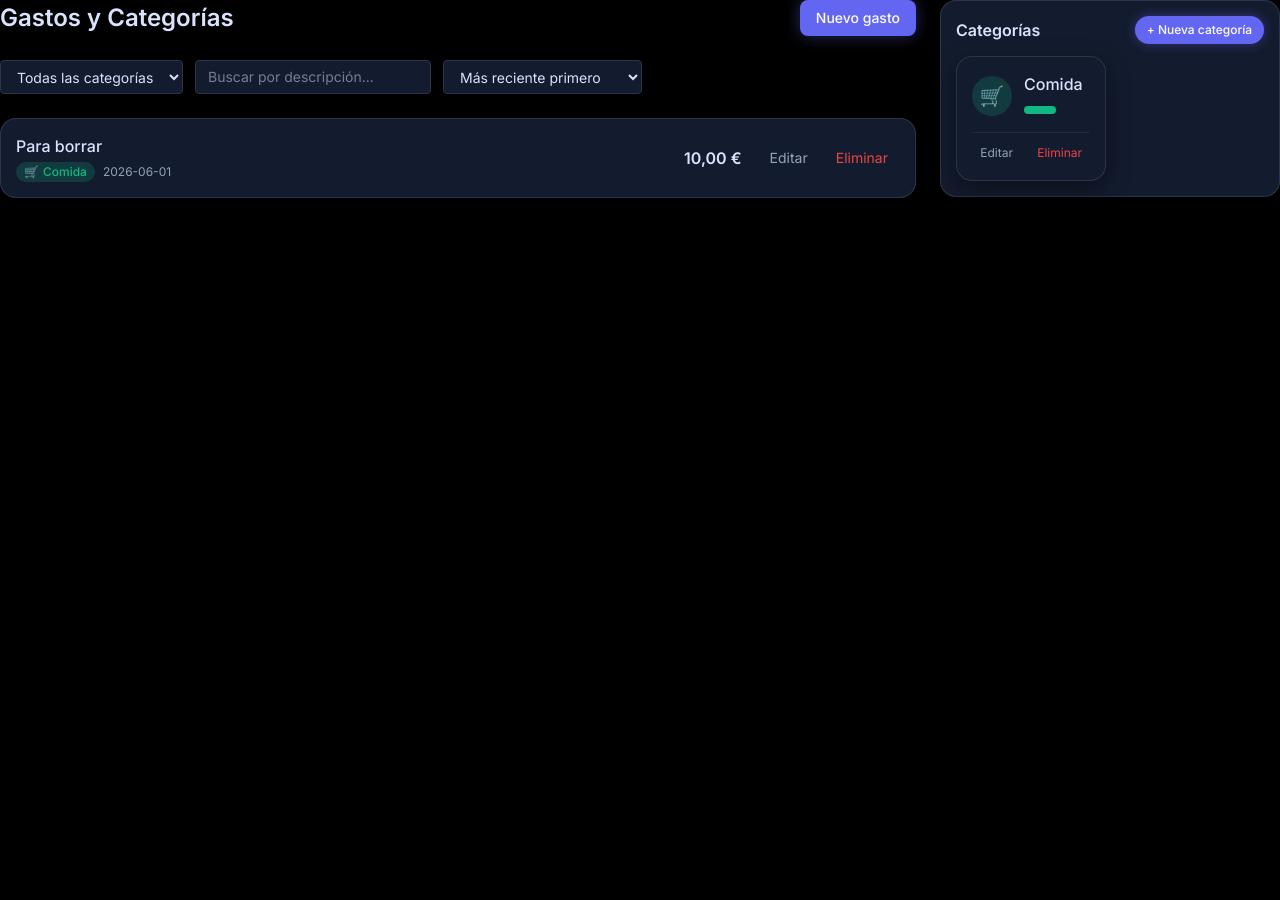
Test: ExpensesPage — active period › removes an expense after confirming deletion
This screenshot has width=1280, height=900.
What coordinates should you click on to do the following:
click the button with aria-label "eliminar para borrar"
I would click on:
 (862, 158)
Its box is [824, 142, 900, 174].
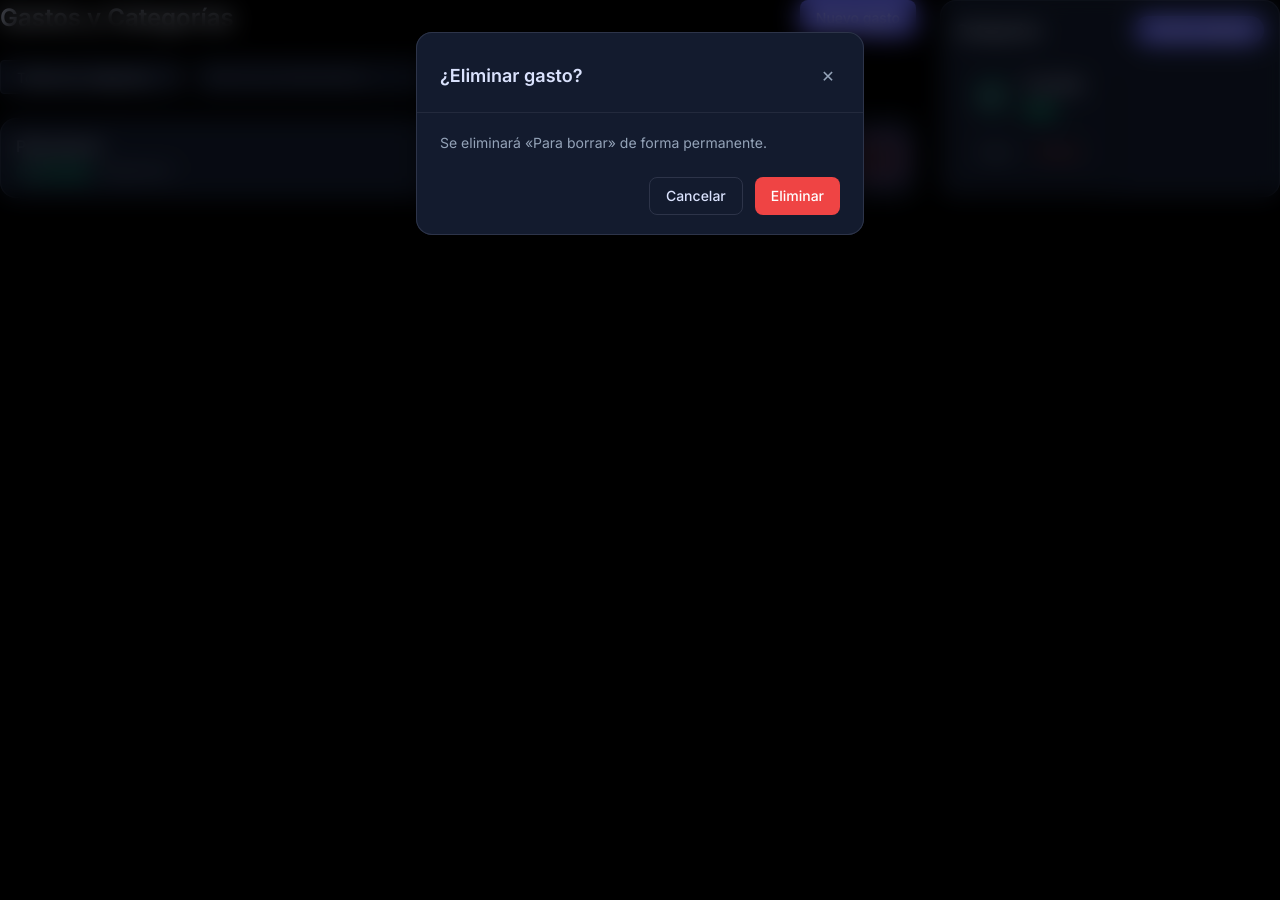
What coordinates should you click on to do the following:
click the button "Eliminar"
I would click on:
 (797, 196)
Its box is [755, 177, 840, 215].
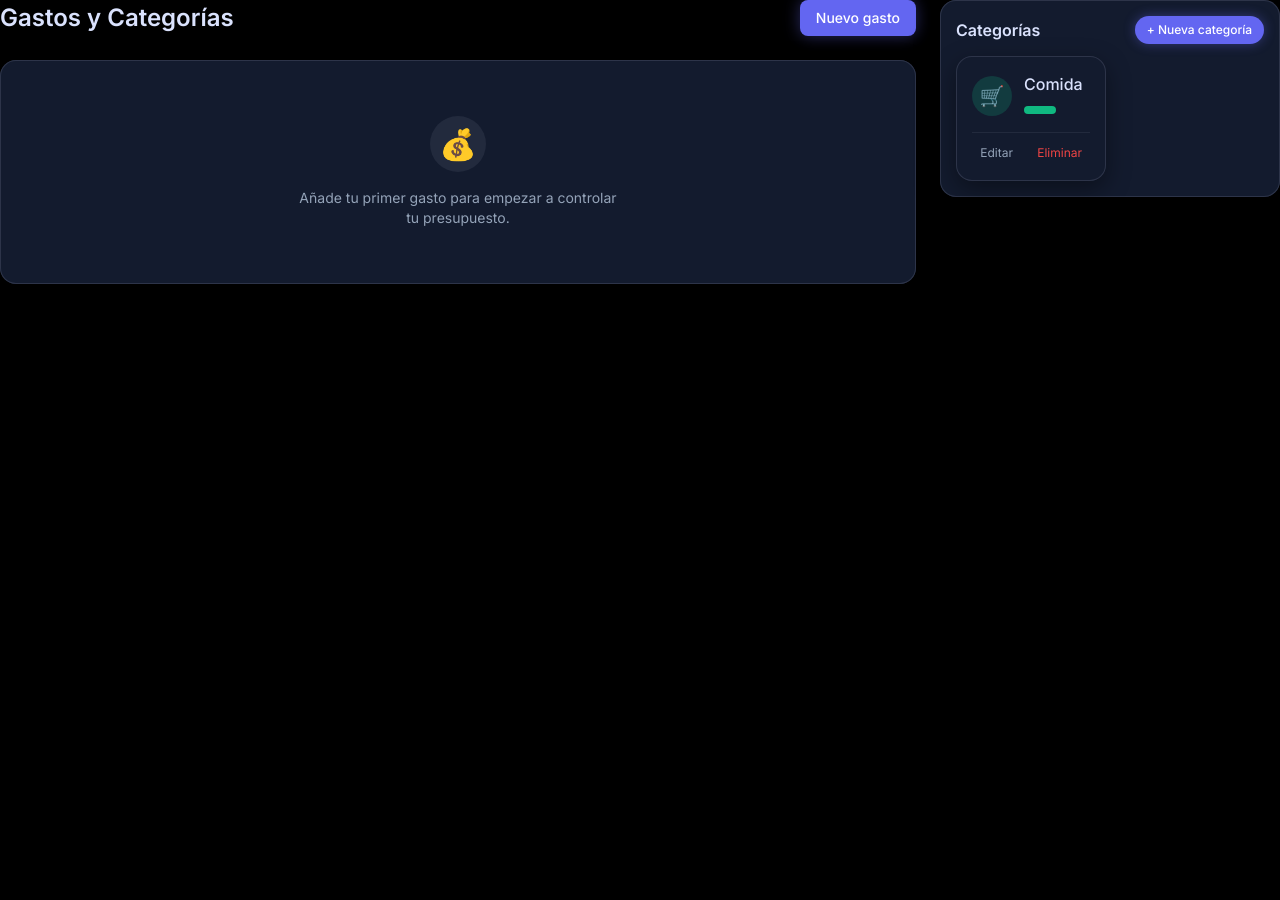
Now the text "Para borrar" is gone
